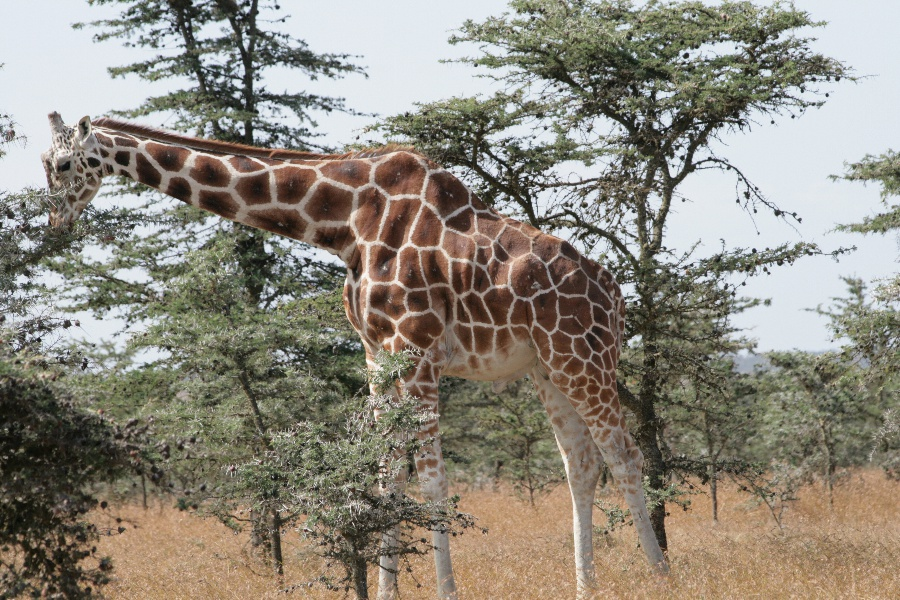giraffe: (33, 102, 689, 589)
